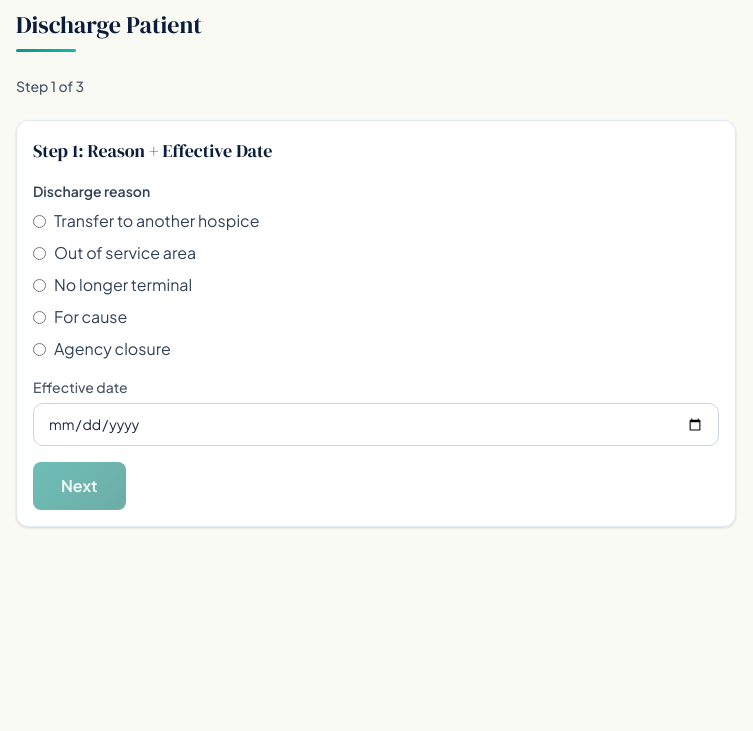
Test: HospiceDischargeWizard › Step 2 shows for-cause fields when reason=ForCause
Click the radio button labelled "For cause".
click(40, 317)  # box [33, 310, 46, 324]
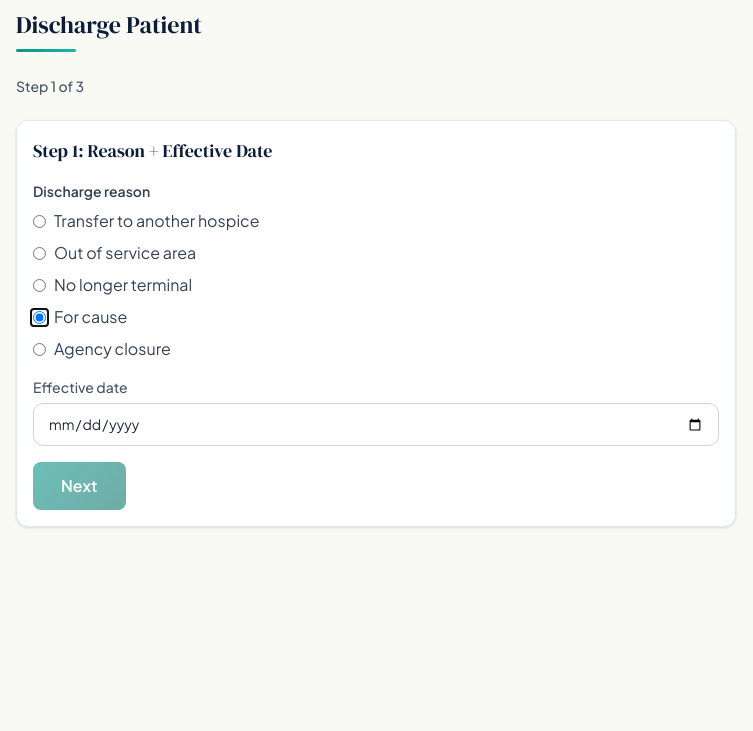
Type "2026-02-01" into the date field labelled "Effective date".
click(376, 424); type("2026-02-01")  # box [33, 403, 719, 446]
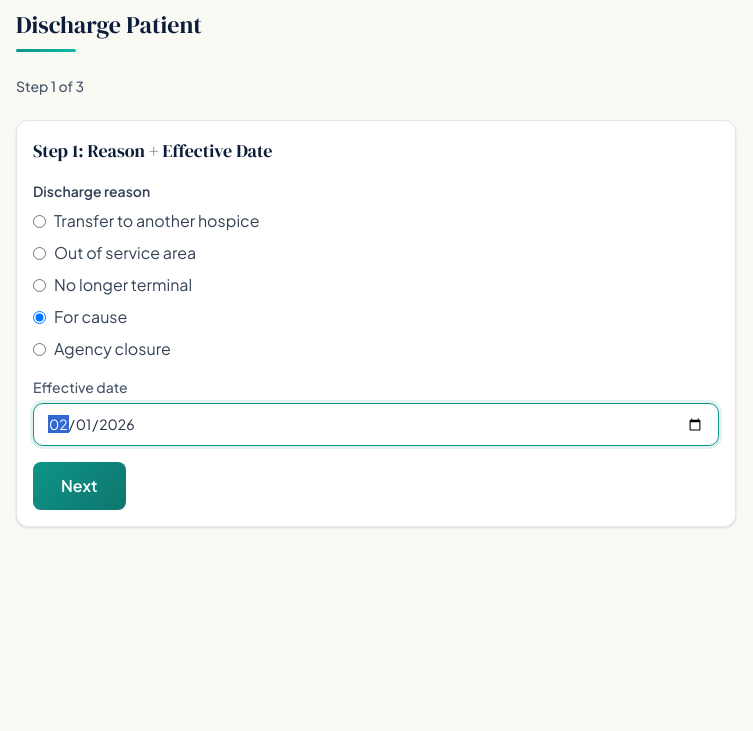
Click the button "Next".
click(79, 486)  # box [33, 462, 126, 510]
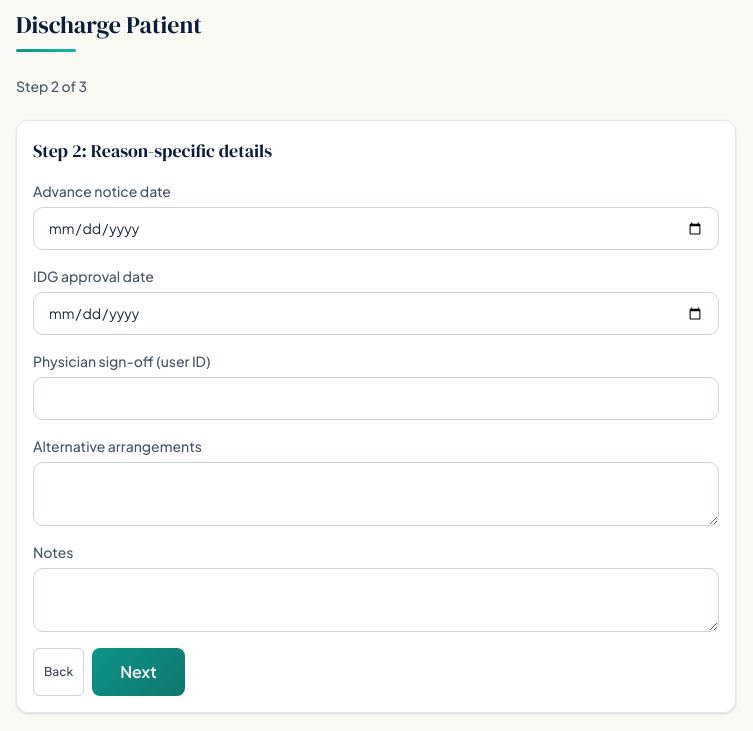
Expected: the date field labelled "Advance notice date" is shown, [33, 207, 719, 250]
Expected: the date field labelled "IDG approval date" is shown, [33, 292, 719, 335]
Expected: the text box labelled "Alternative arrangements" is shown, [33, 462, 719, 526]
